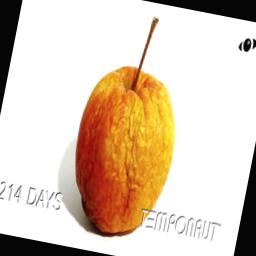Apple Rotten: (52, 0, 204, 248)
